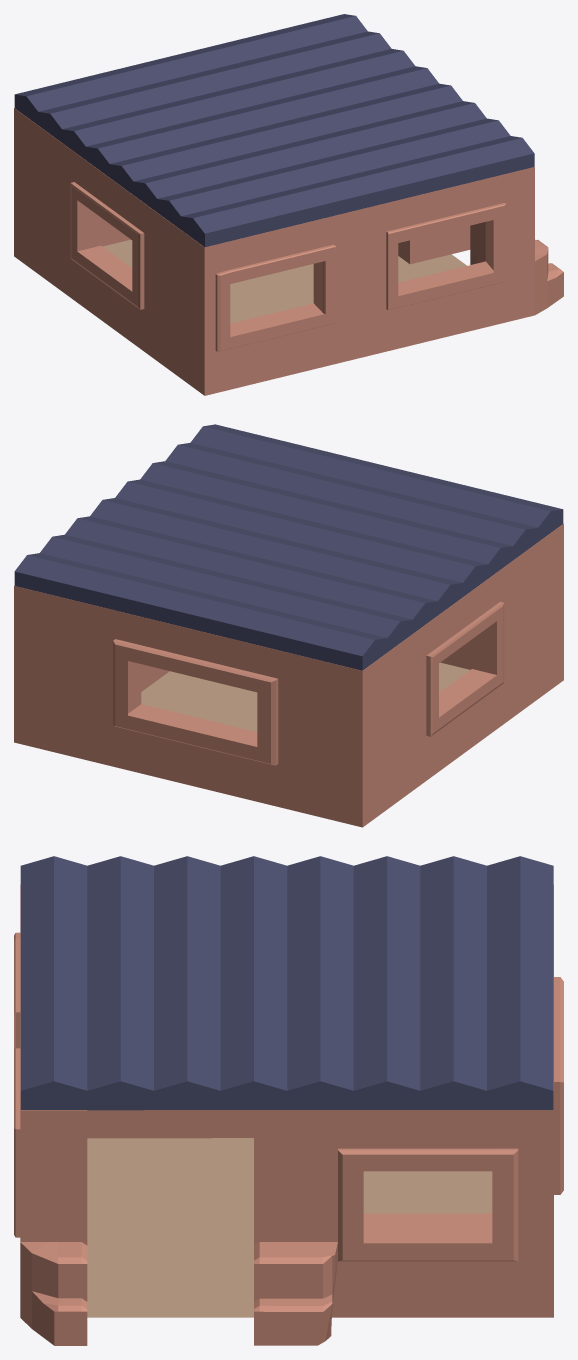
The model's file is House.fbx.
The picture shows the model from 3 angles, top to bottom: view 1: azimuth 30°, elevation 25°; view 2: azimuth 150°, elevation 25°; view 3: azimuth 270°, elevation 25°; orthographic projection. The views are drawn at different scales.
Visible parts, largest first — view 1: Cube, Plane, Floor; view 2: Cube, Plane, Floor; view 3: Plane, Cube, Floor.
Part boxes in pixels (box(x1,y1,x2,y2)): Cube: box(14, 108, 563, 395); Plane: box(14, 14, 534, 247); Floor: box(103, 239, 466, 323); Cube: box(14, 523, 563, 827); Plane: box(14, 424, 563, 670); Floor: box(141, 662, 469, 731); Plane: box(20, 856, 553, 1110); Cube: box(14, 885, 563, 1345); Floor: box(87, 1138, 492, 1317).
Size of the model in its own units: 1824 by 783 by 1652.
